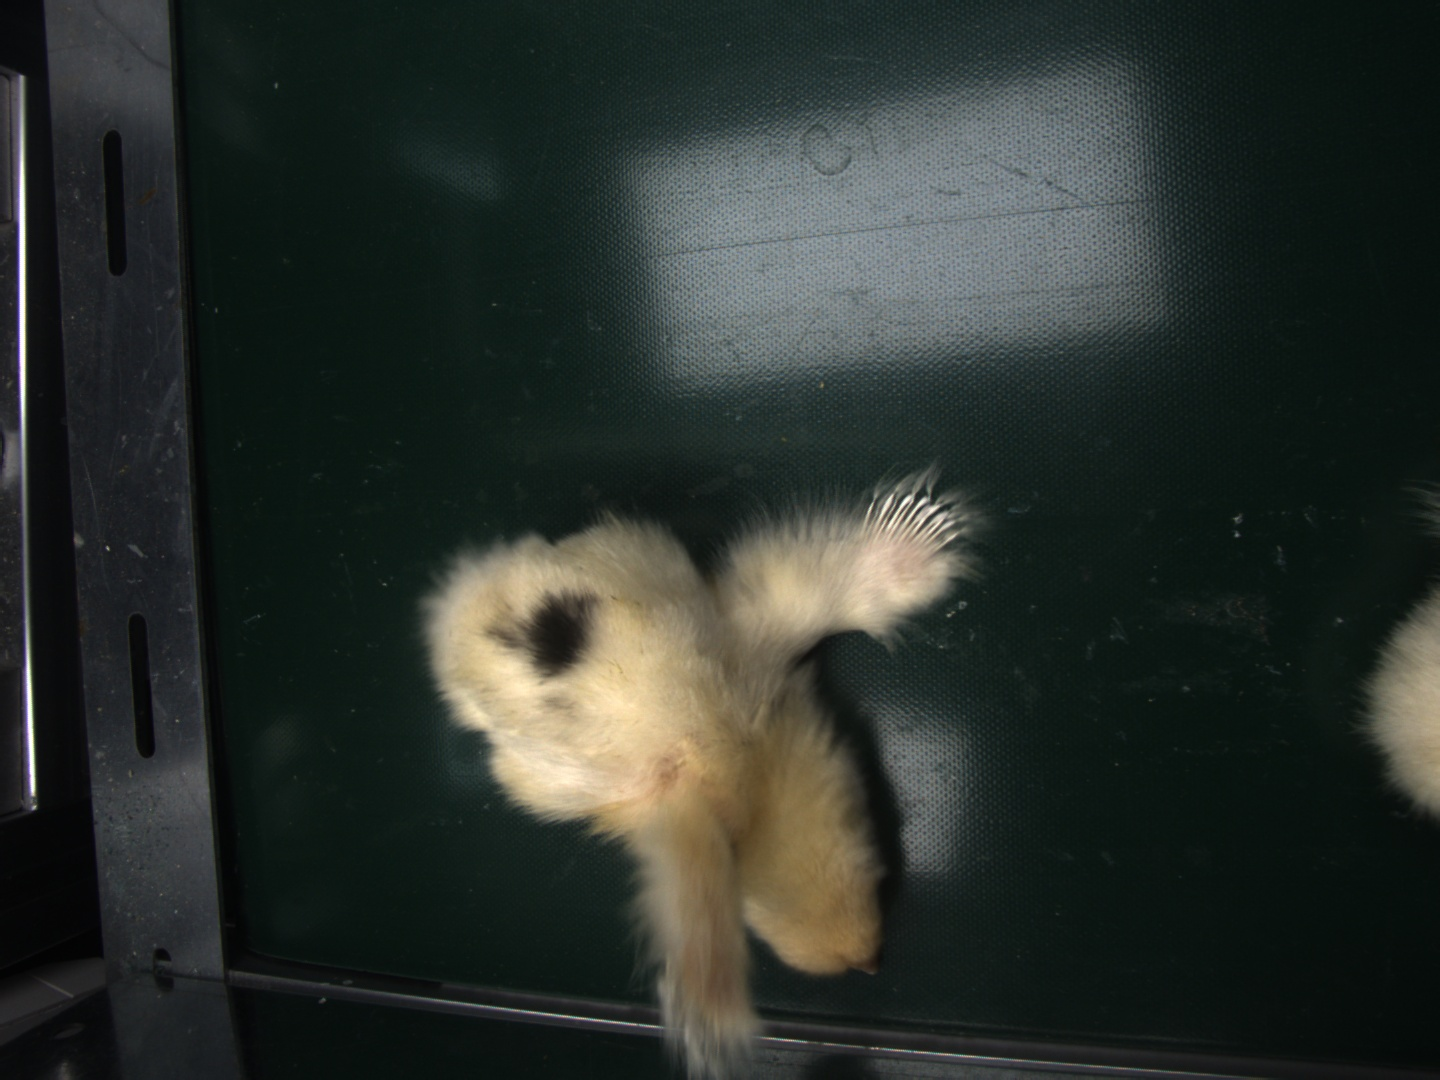male: (865, 492, 956, 552)
